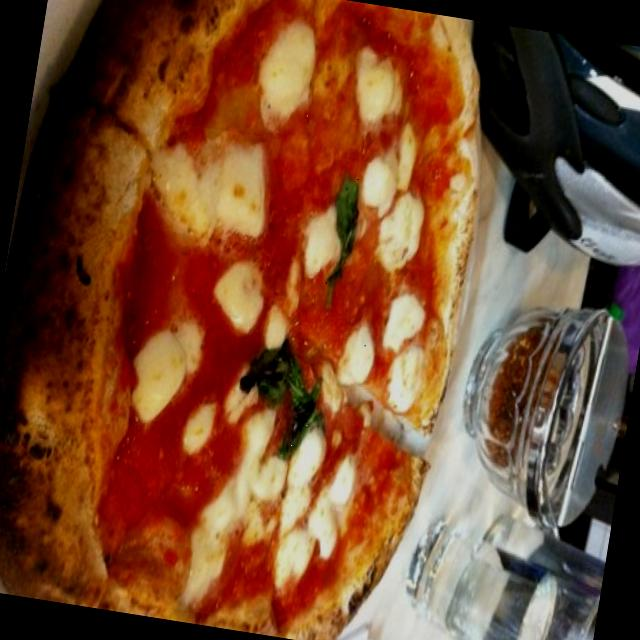basil: (233, 333, 337, 458), (314, 158, 370, 306)
cheese: (174, 412, 274, 620), (255, 450, 364, 611), (144, 121, 280, 246), (237, 418, 331, 564), (348, 150, 440, 270), (246, 9, 324, 138), (128, 316, 200, 426), (210, 253, 276, 344), (376, 335, 440, 420), (371, 282, 434, 368), (341, 51, 407, 133), (174, 401, 220, 473), (302, 208, 342, 282), (335, 325, 380, 390), (260, 294, 294, 354)
pizza: (0, 0, 477, 640)
